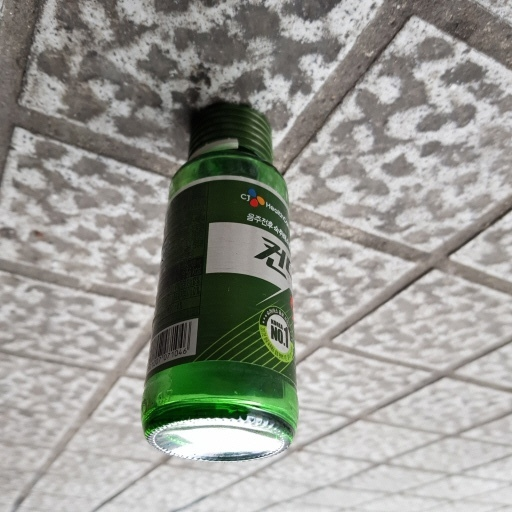Glass_4: (131, 106, 301, 459)
